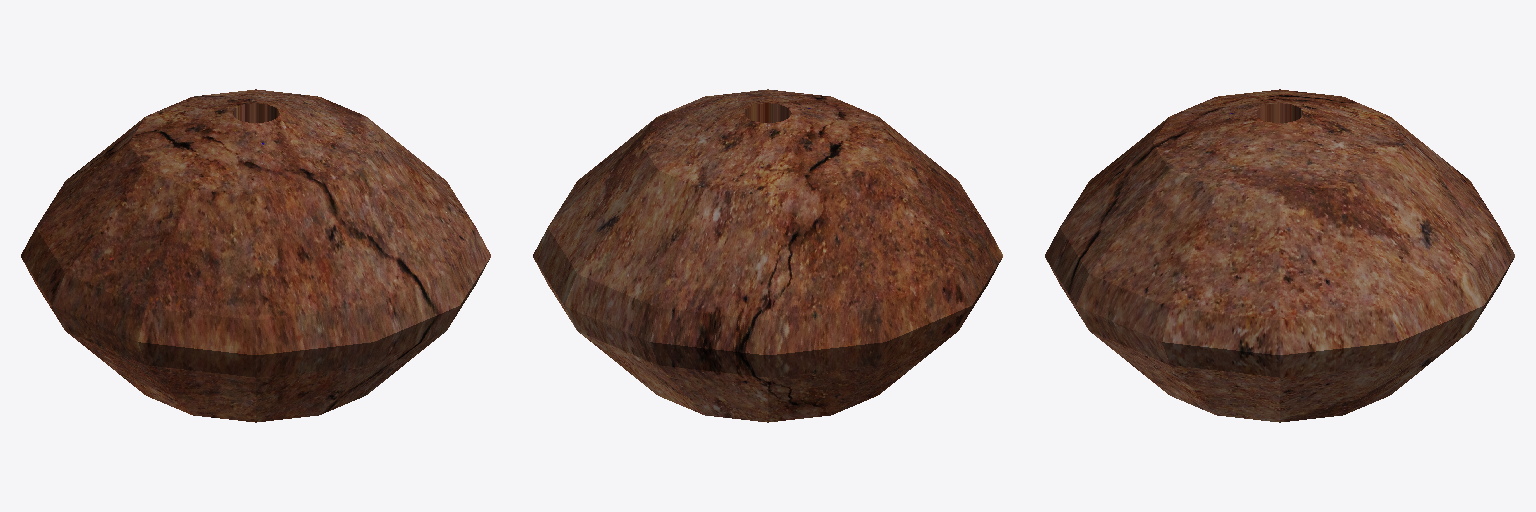
3 views of the same model, side by side, from view 1: azimuth 30°, elevation 25°; view 2: azimuth 150°, elevation 25°; view 3: azimuth 270°, elevation 25° (orthographic).
Size of the model in its own units: 3.39 by 2.27 by 3.39.
1 materials, 1 textured.